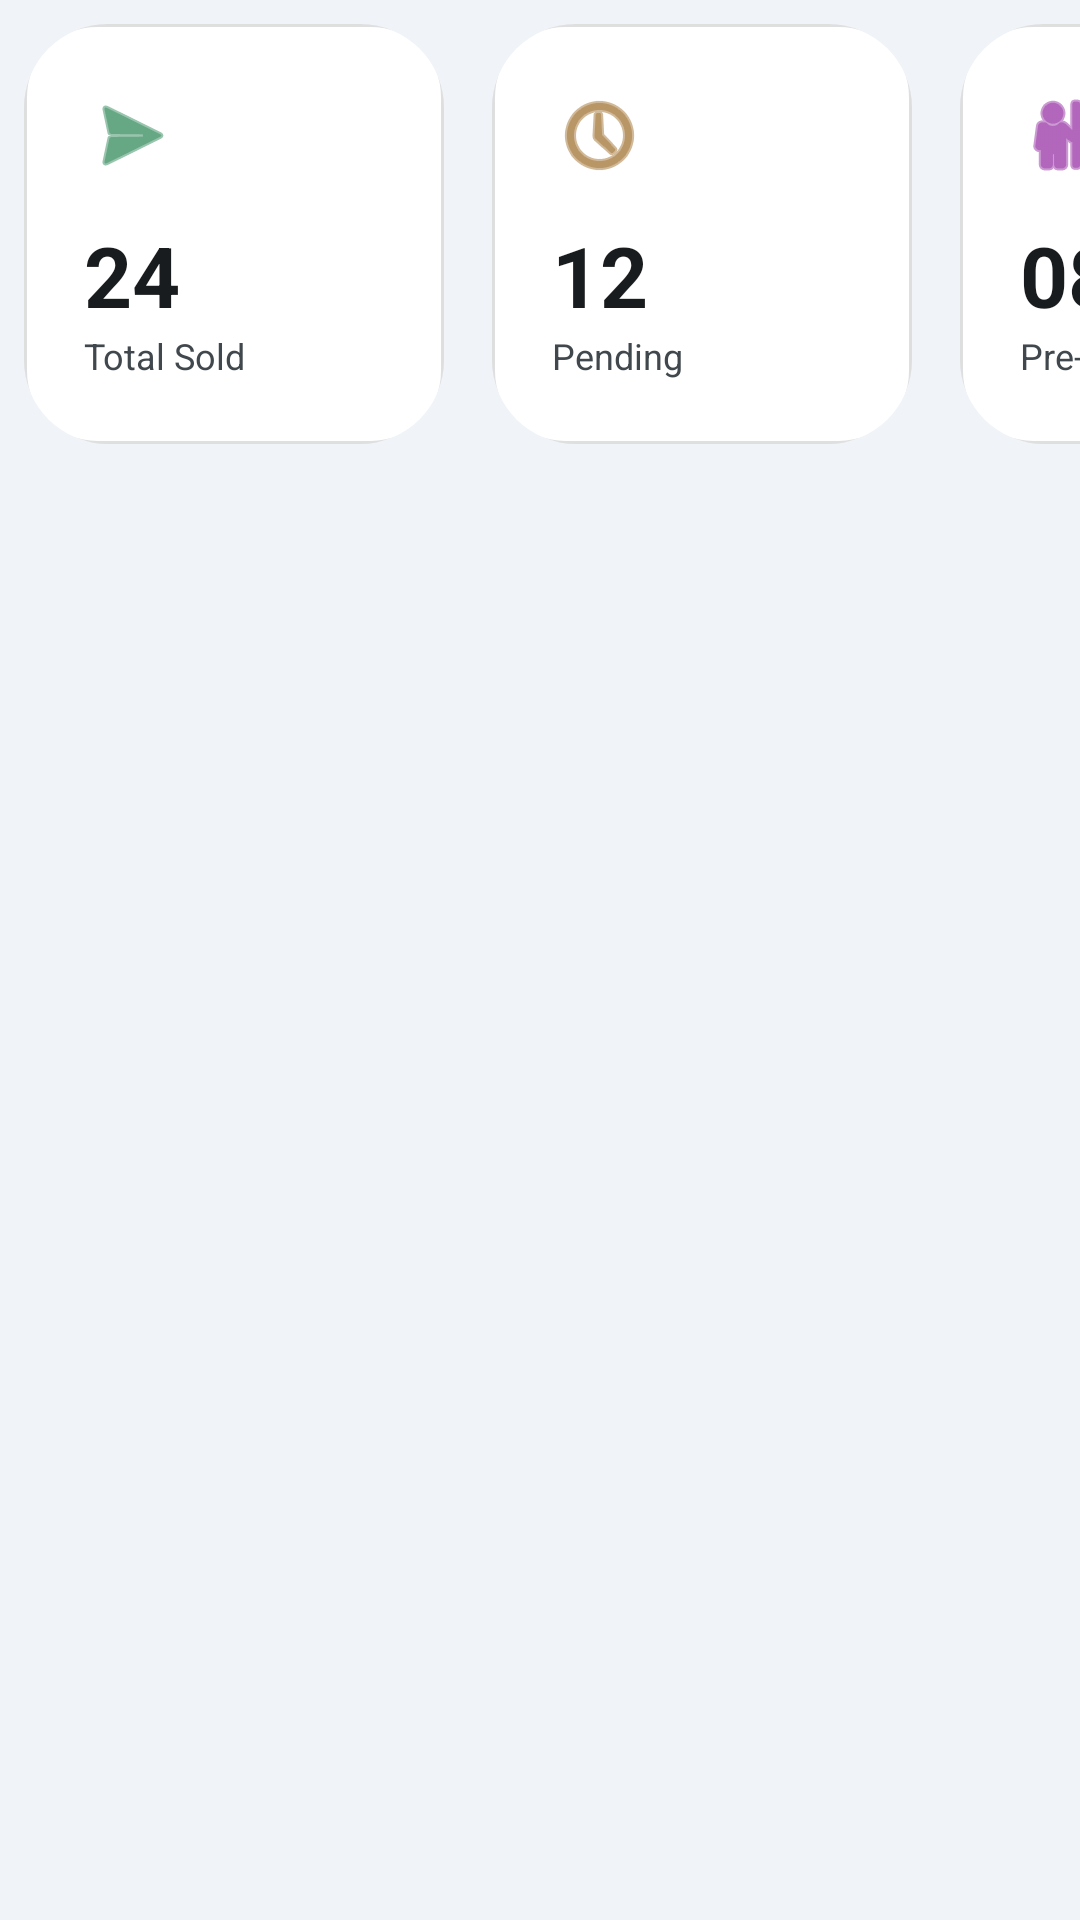

Where to tap for icons on this 1080*1920 app screen, as (x,y):
recent history: (599,135)
send: (133,135)
